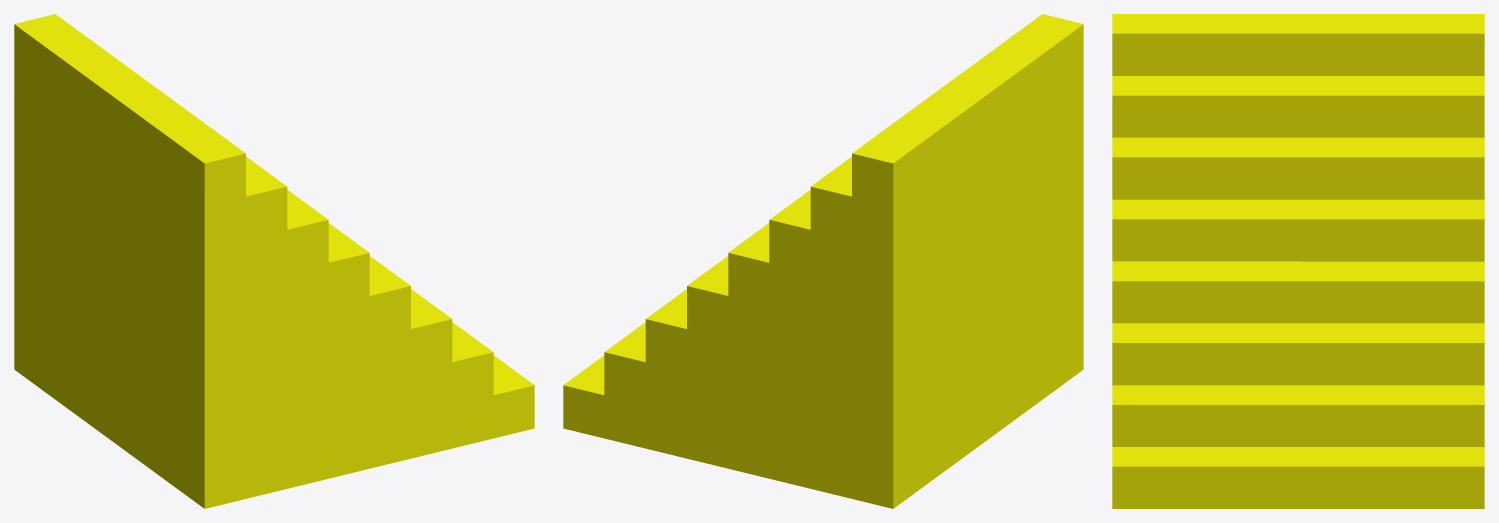
Rendered from kaykit-primitive-stairs.glb.
3 renders of one model, left to right at view 1: azimuth 30°, elevation 25°; view 2: azimuth 150°, elevation 25°; view 3: azimuth 270°, elevation 25°, orthographic. The views are drawn at different scales.
Visible parts, largest first — view 1: Primitive_Stairs; view 2: Primitive_Stairs; view 3: Primitive_Stairs.
Boxes of the visible parts, x1,y1,x2,y2 form: Primitive_Stairs: [14, 14, 534, 508]; Primitive_Stairs: [563, 14, 1083, 508]; Primitive_Stairs: [1112, 14, 1484, 508].
Size of the model in its own units: 4 by 4 by 4.
